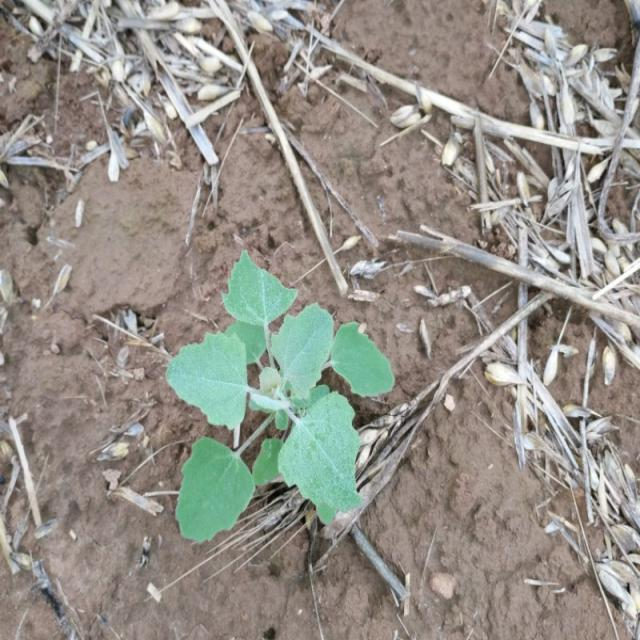goosefoots: (158, 255, 386, 538)
